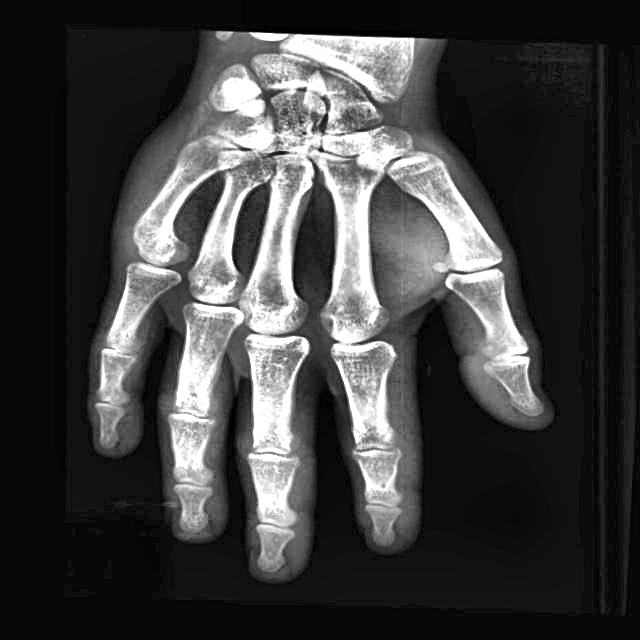Healthy: (94, 41, 513, 493)
